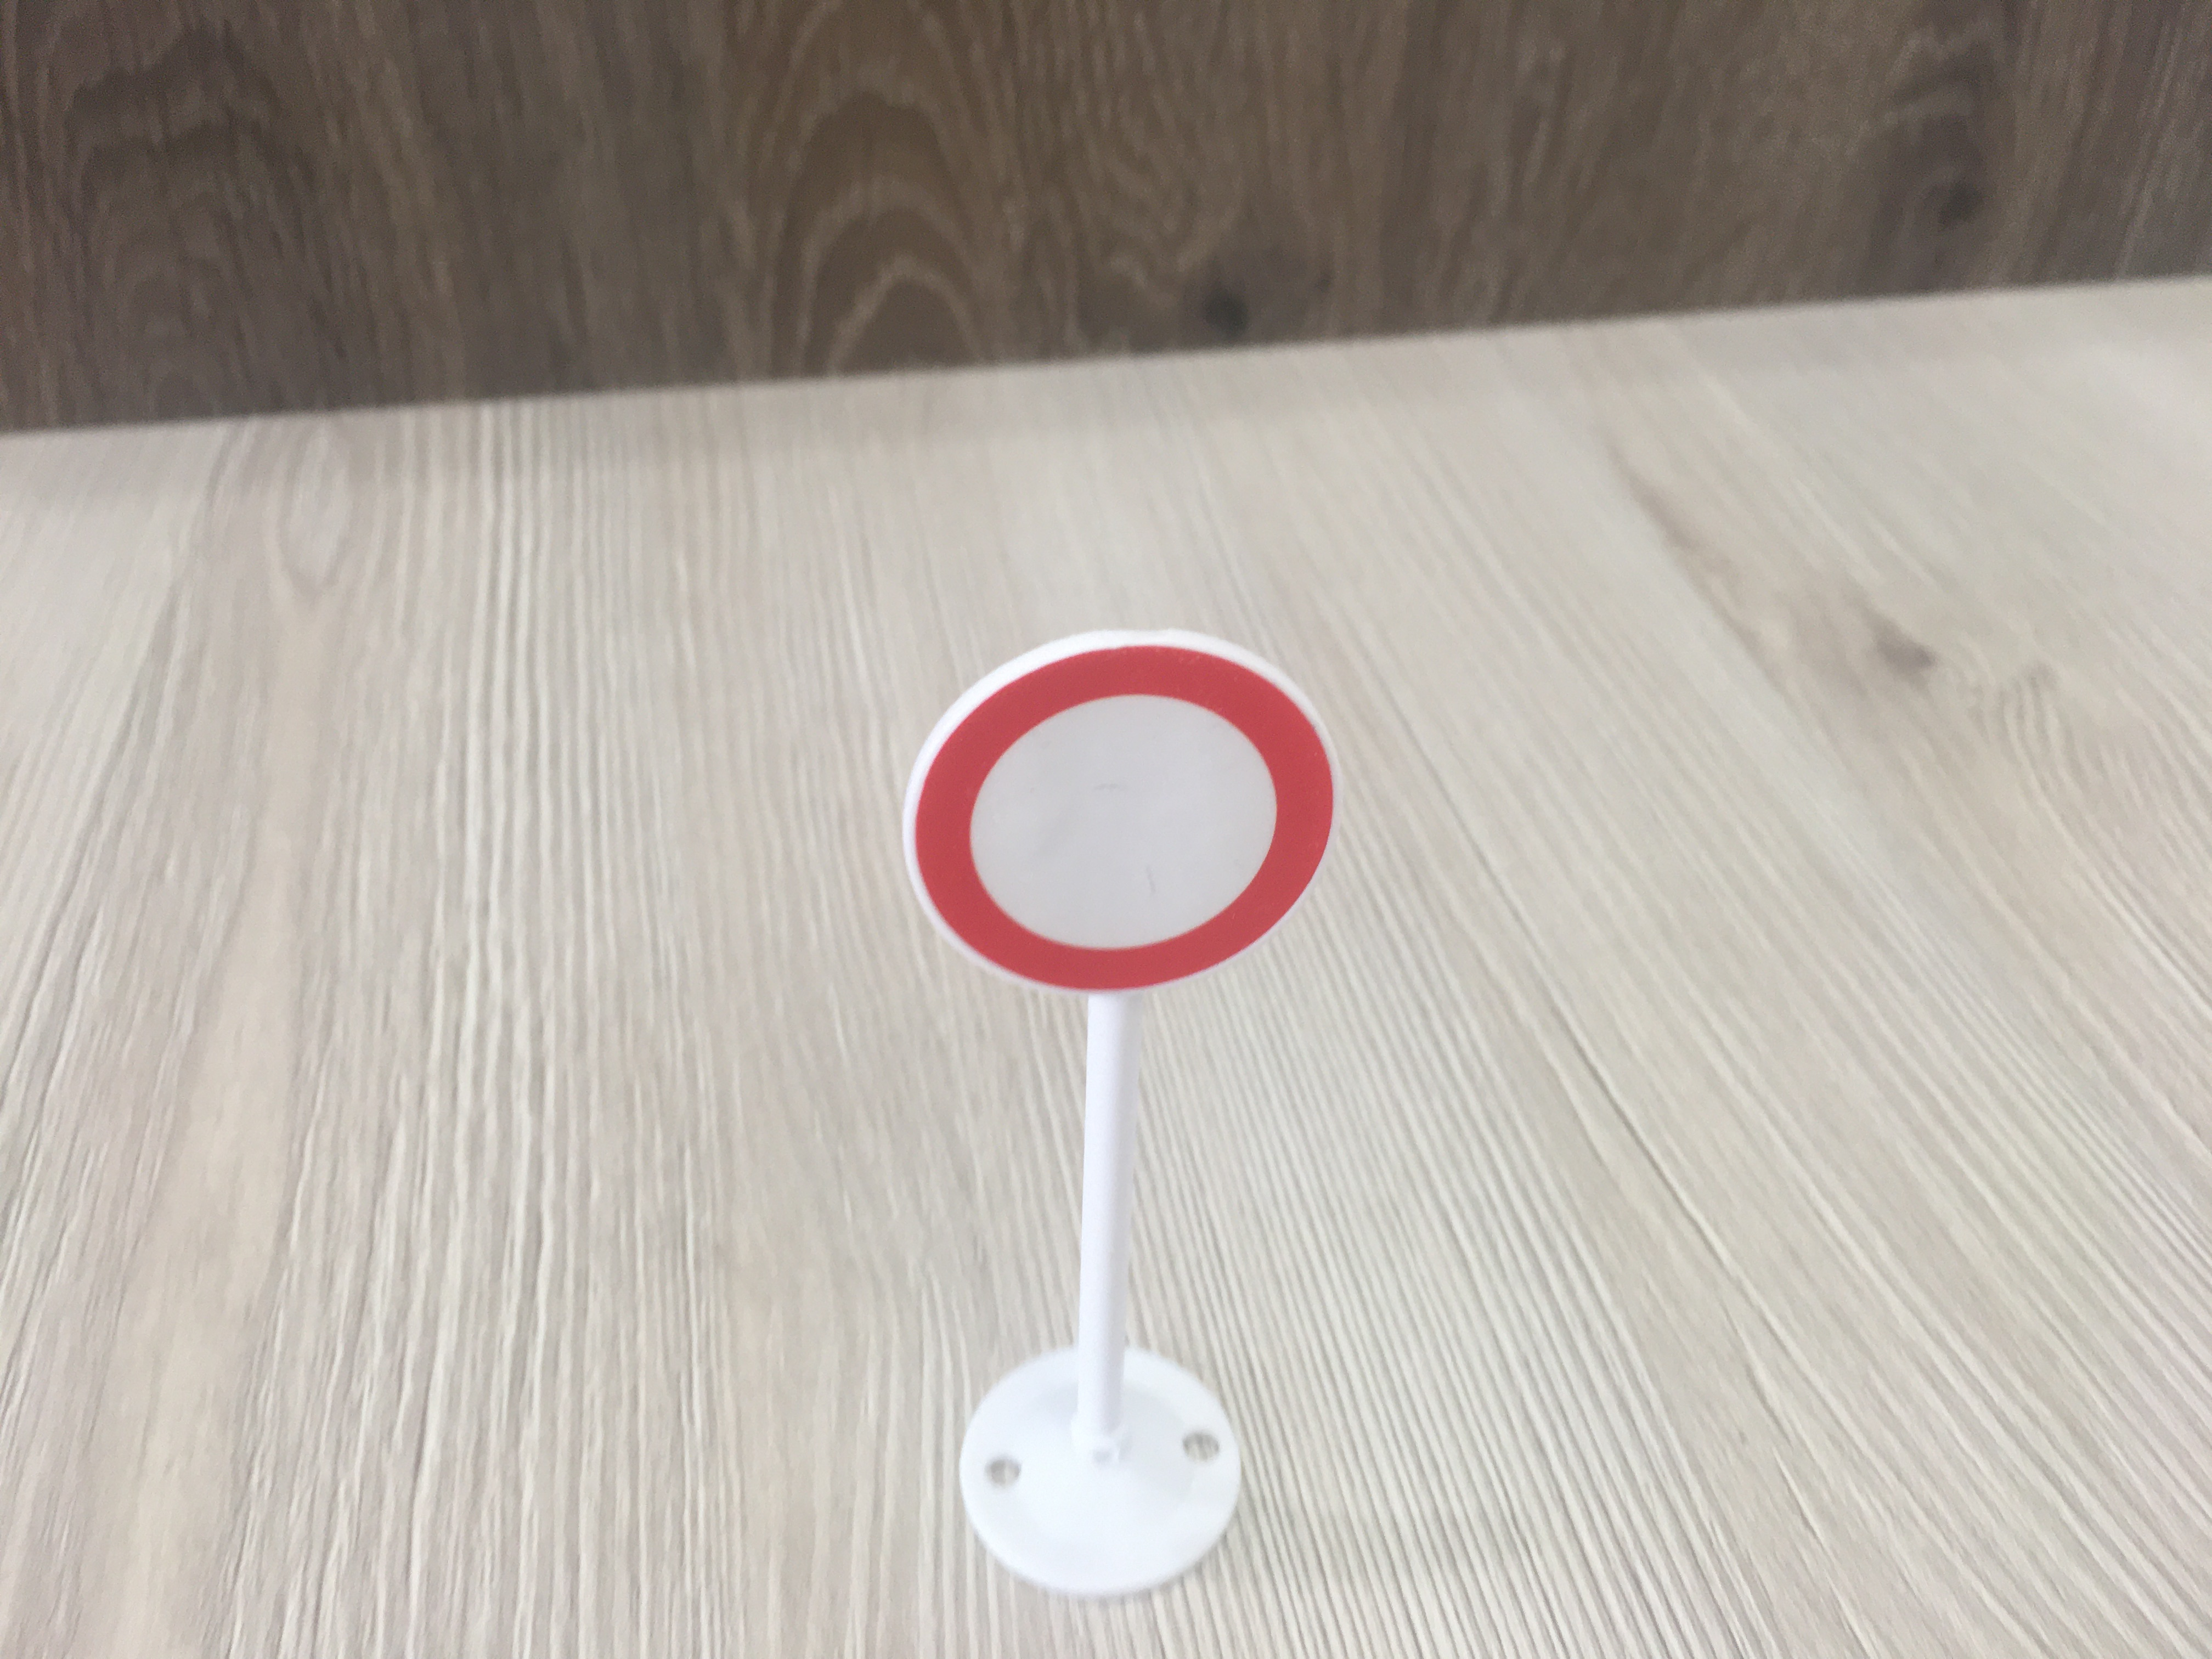noDrive: (895, 629, 1341, 997)
